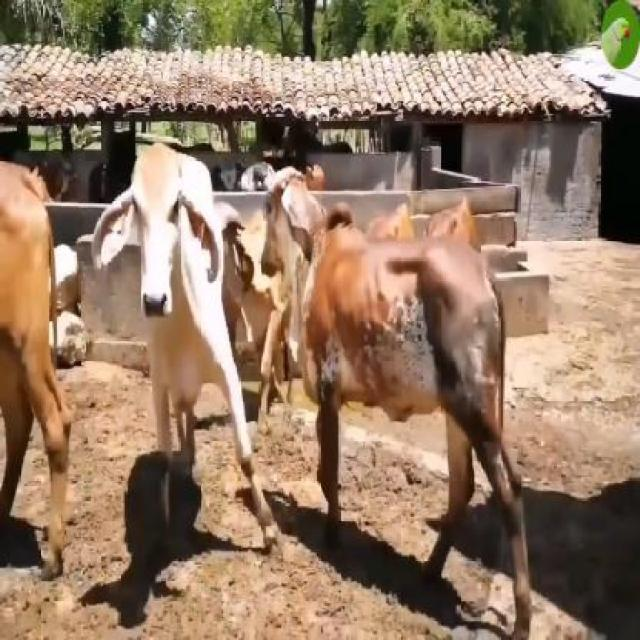Cow: (91, 140, 275, 592)
